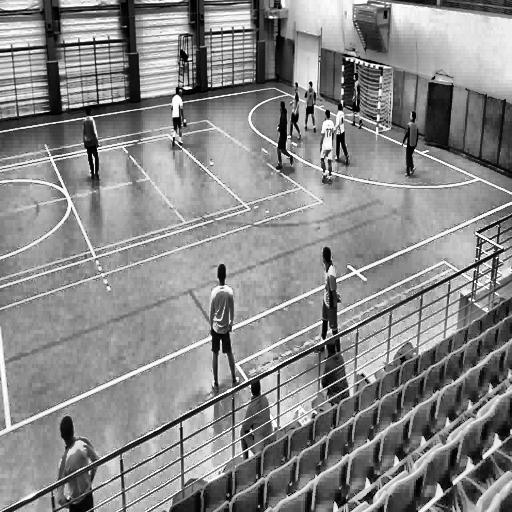ball: (182, 116, 188, 128)
player: (207, 262, 244, 400), (53, 411, 99, 512), (240, 374, 276, 461), (318, 242, 342, 356), (319, 337, 352, 415), (81, 104, 103, 184), (276, 100, 294, 173), (402, 112, 420, 180), (320, 110, 335, 188), (334, 102, 349, 169), (287, 83, 302, 144), (350, 73, 365, 132), (171, 86, 185, 149), (304, 80, 317, 135)
